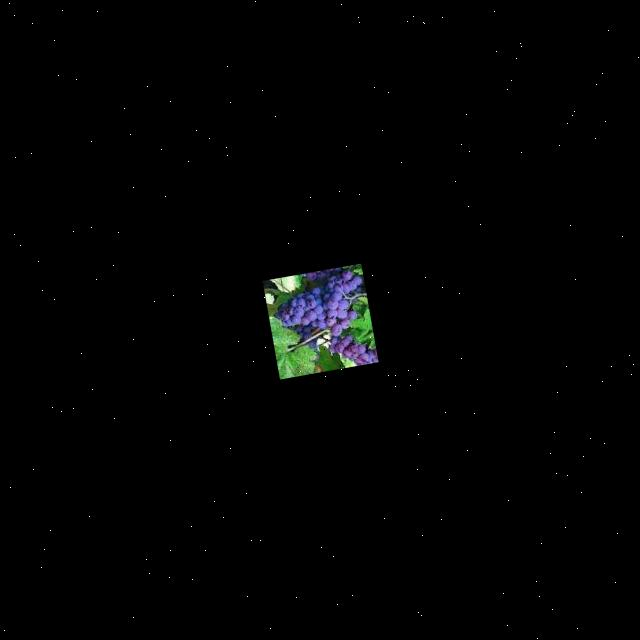grape: (268, 262, 378, 376)
